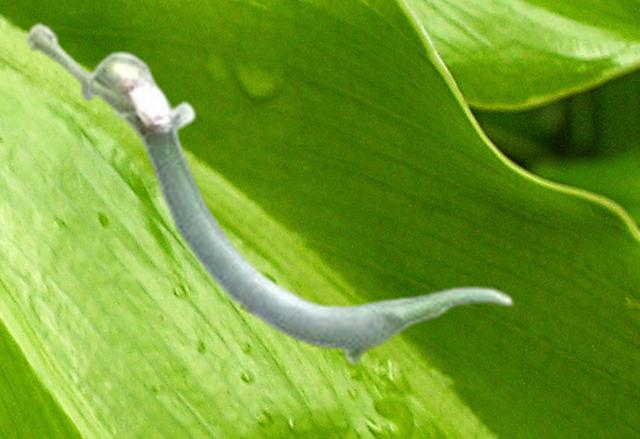french_bean: (25, 21, 513, 365)
